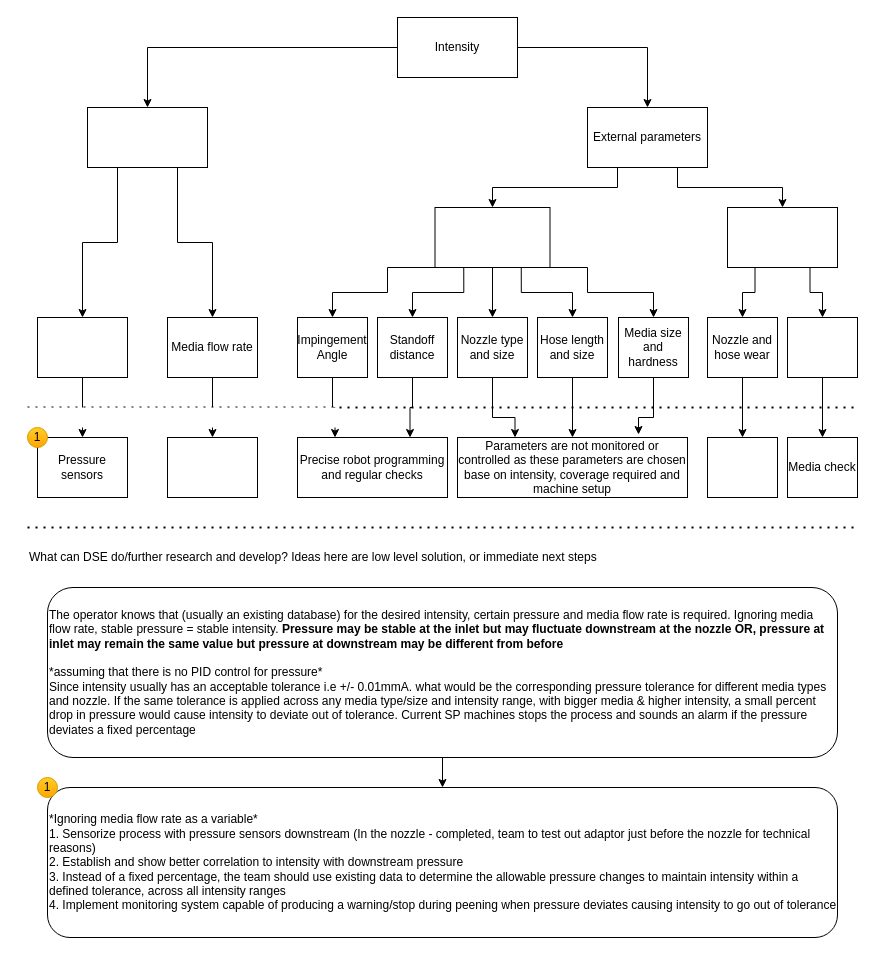
Image size: 876x955. Some labels were removed from this diagram. The centre of each missing label's shape, as x and y in pixels:
"Adjustable" belongs at [492,237].
"Efforts to monitor and maintain intensity directly/indirectly" belongs at [177,417].
"Internal parameters" belongs at [147,137].
"Media condition" belongs at [822,347].
"Media valve (closed-loop)" belongs at [212,467].
"Not adjustable" belongs at [782,237].
"Pressure" belongs at [82,347].
"Preventive maintenance" belongs at [742,467].
